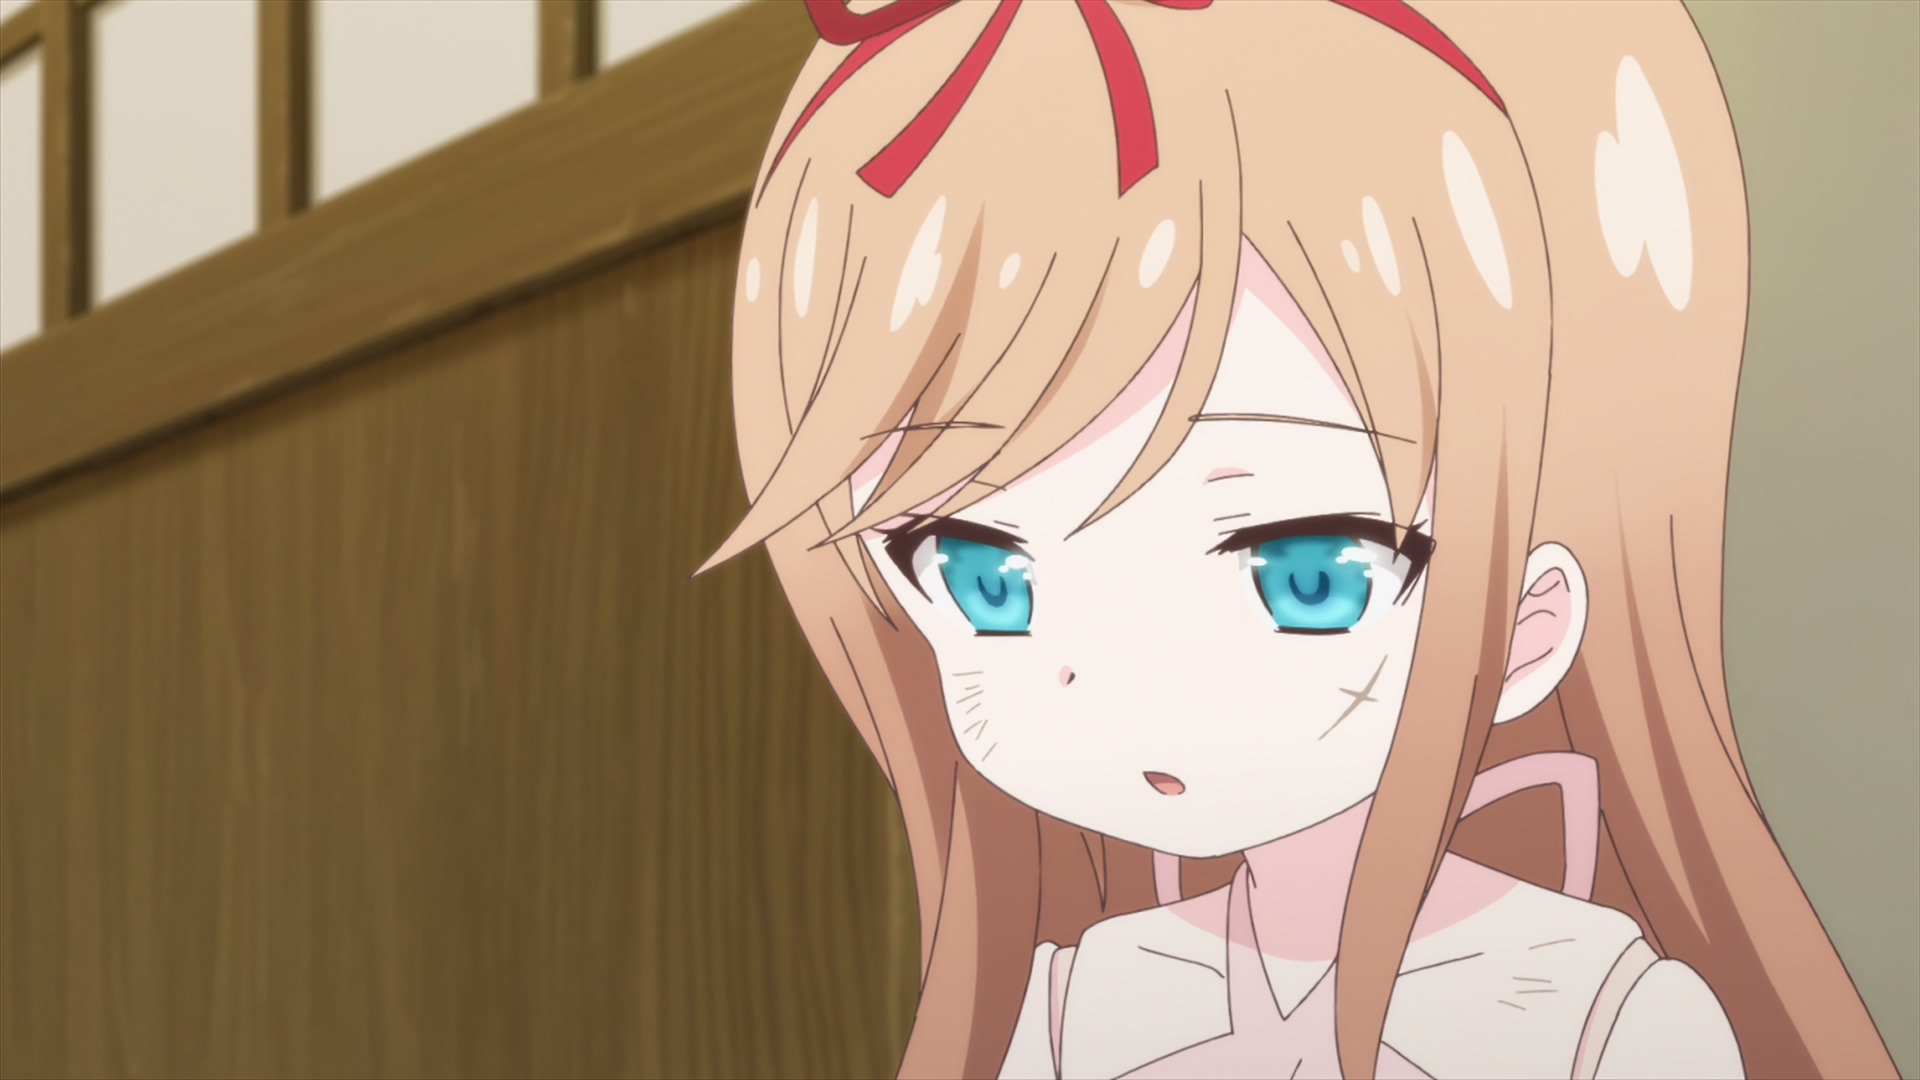其他: (694, 1, 1898, 1080)
